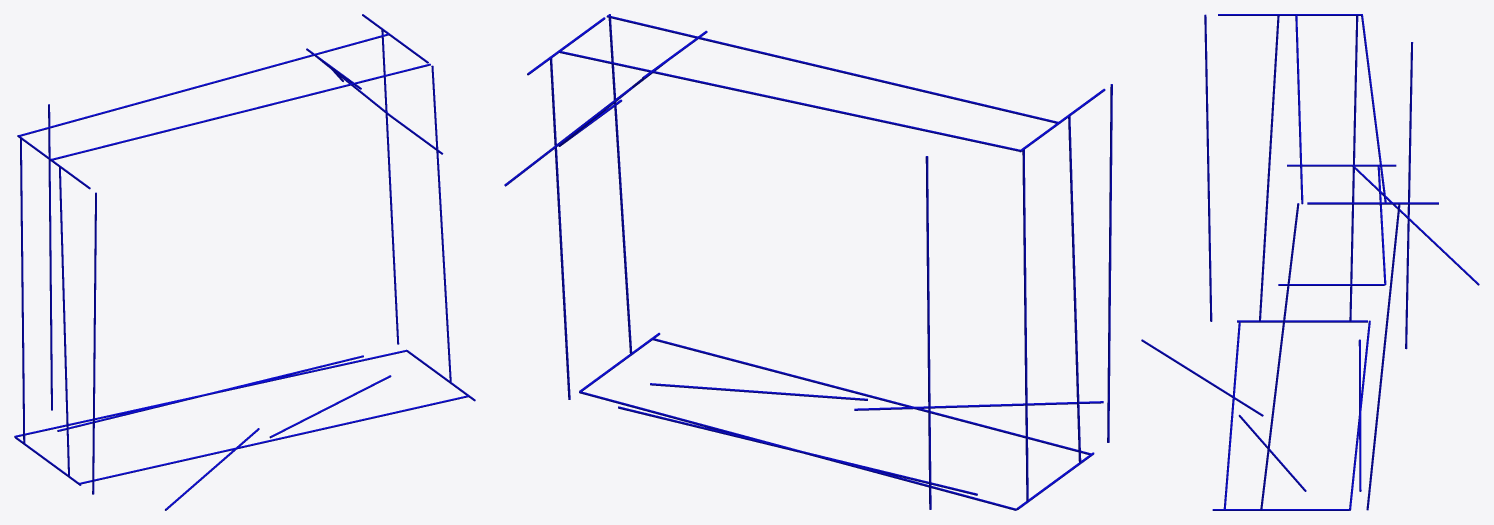
File: corrected_3d_strokes.glb
3 renders of one model, left to right at view 1: azimuth 30°, elevation 25°; view 2: azimuth 150°, elevation 25°; view 3: azimuth 270°, elevation 25°, orthographic. The views are drawn at different scales.
Visible parts, largest first — view 1: world; view 2: world; view 3: world.
Boxes of the visible parts, box(x1,y1,x2,y2) form: world: box(14, 14, 475, 510); world: box(504, 14, 1112, 510); world: box(1141, 14, 1479, 510).
Bounding box in the file's own units: 8.32 × 6.32 × 6.29.
